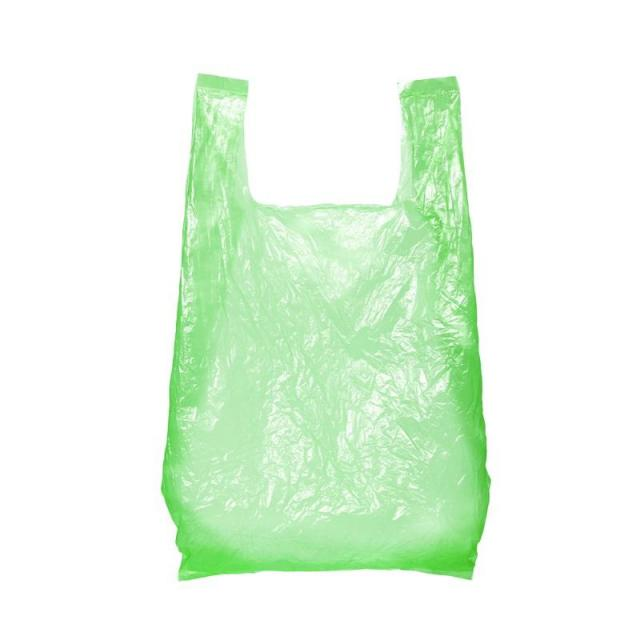plastic_bag: (159, 55, 493, 600)
